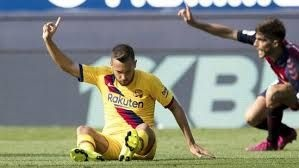falling: (32, 17, 228, 153)
